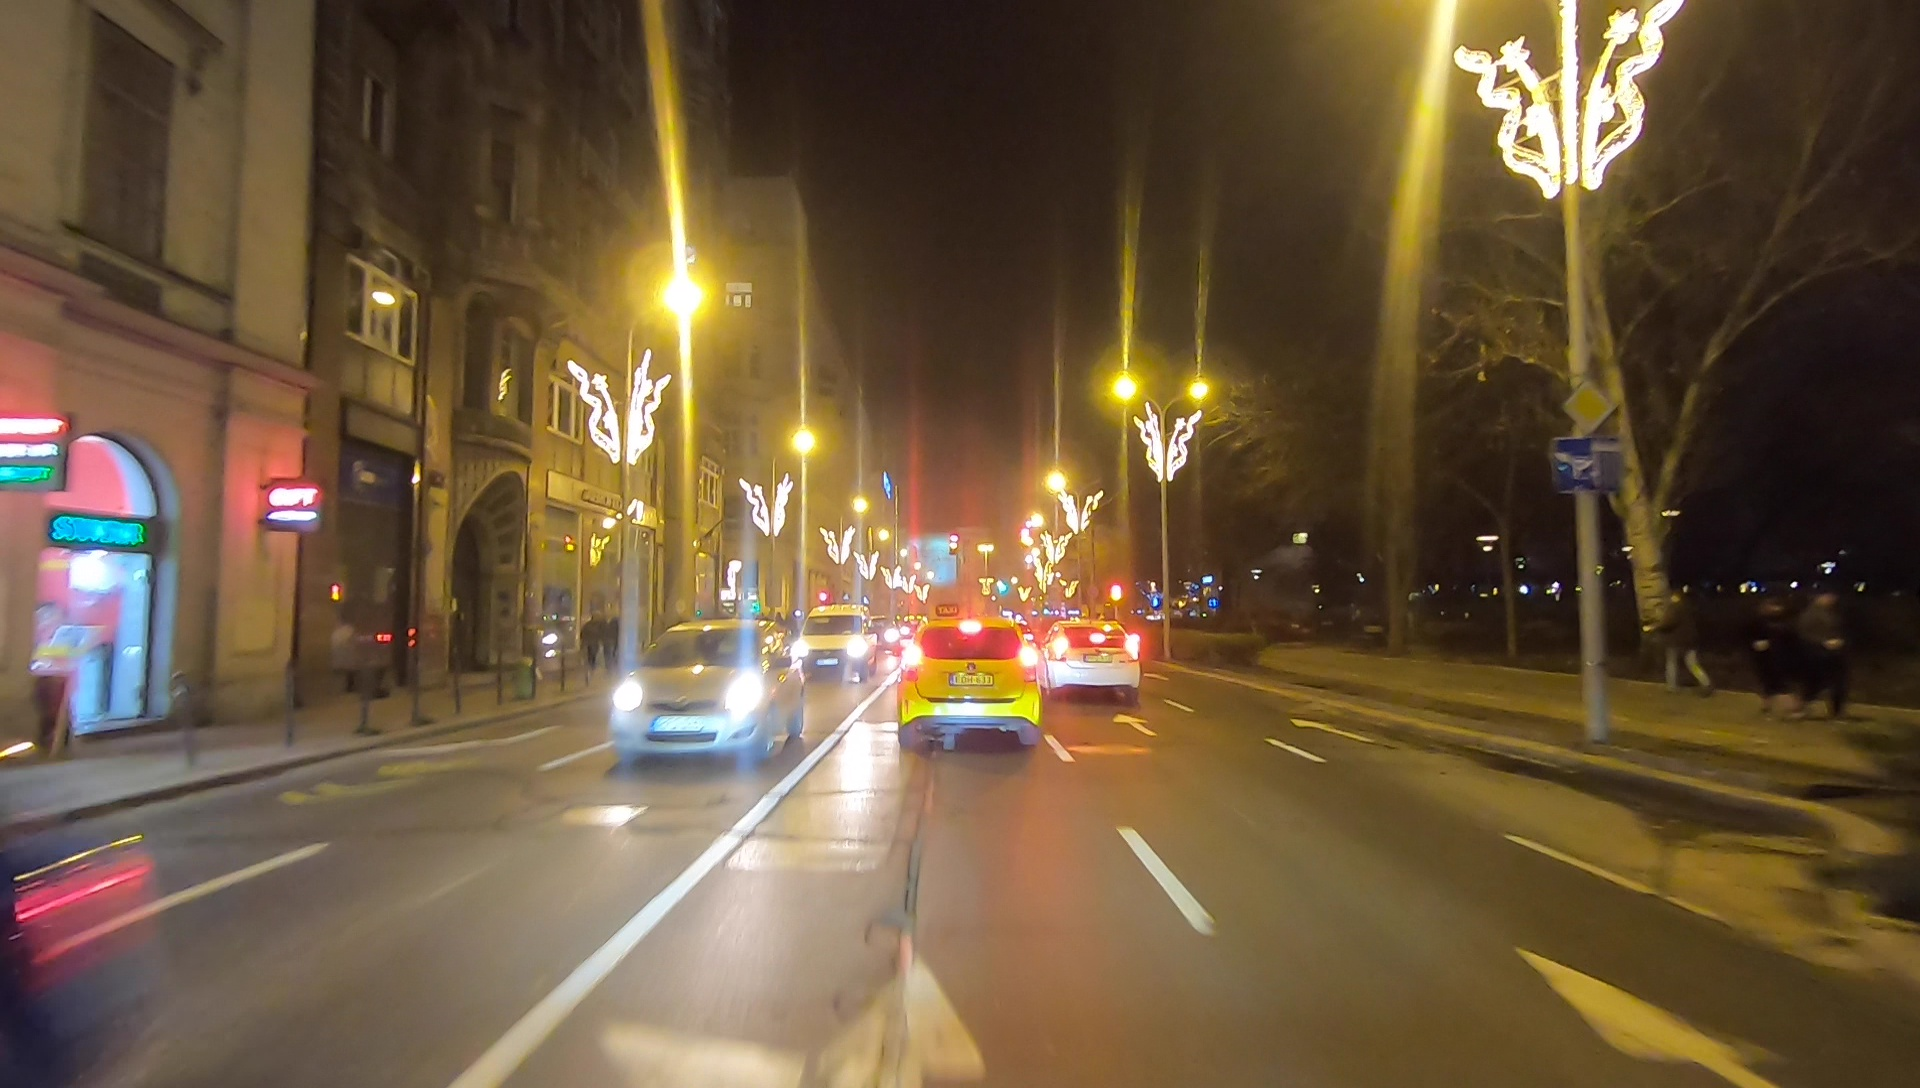person: (1801, 582, 1851, 732), (1652, 589, 1712, 708), (1752, 587, 1784, 728)
